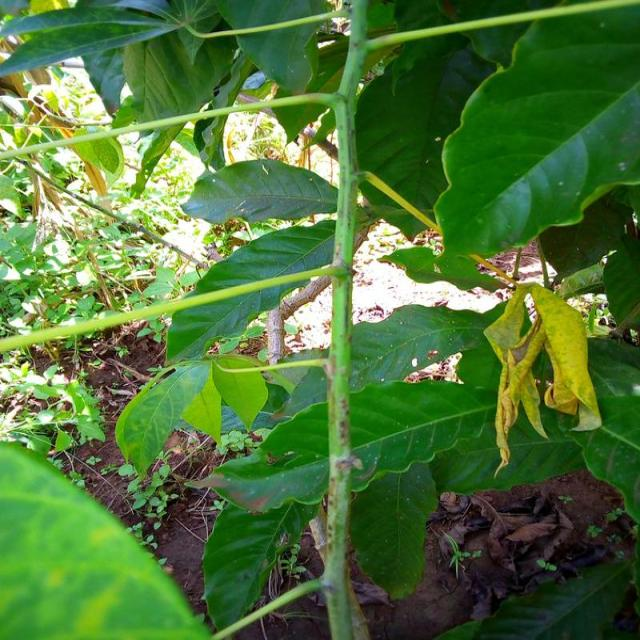cassava leaf: (431, 1, 639, 264), (0, 438, 211, 638), (164, 218, 337, 364), (180, 157, 339, 224)
